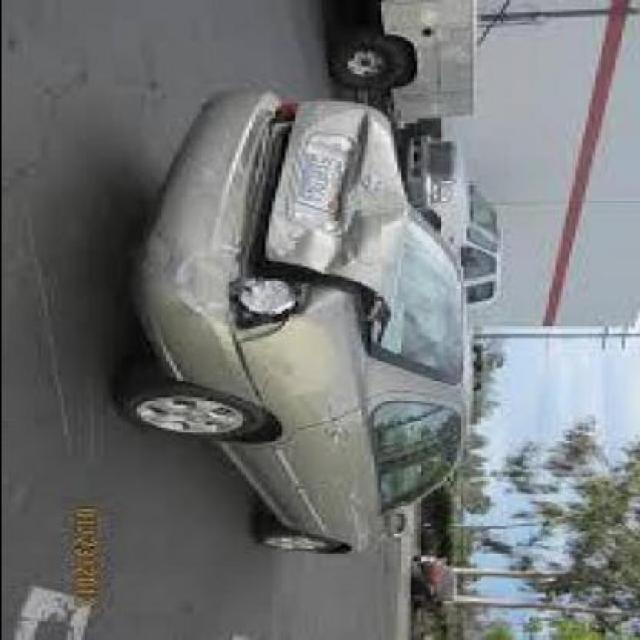damage: (183, 100, 408, 348)
